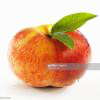Peach leaf: (51, 12, 99, 34), (48, 31, 76, 50)
